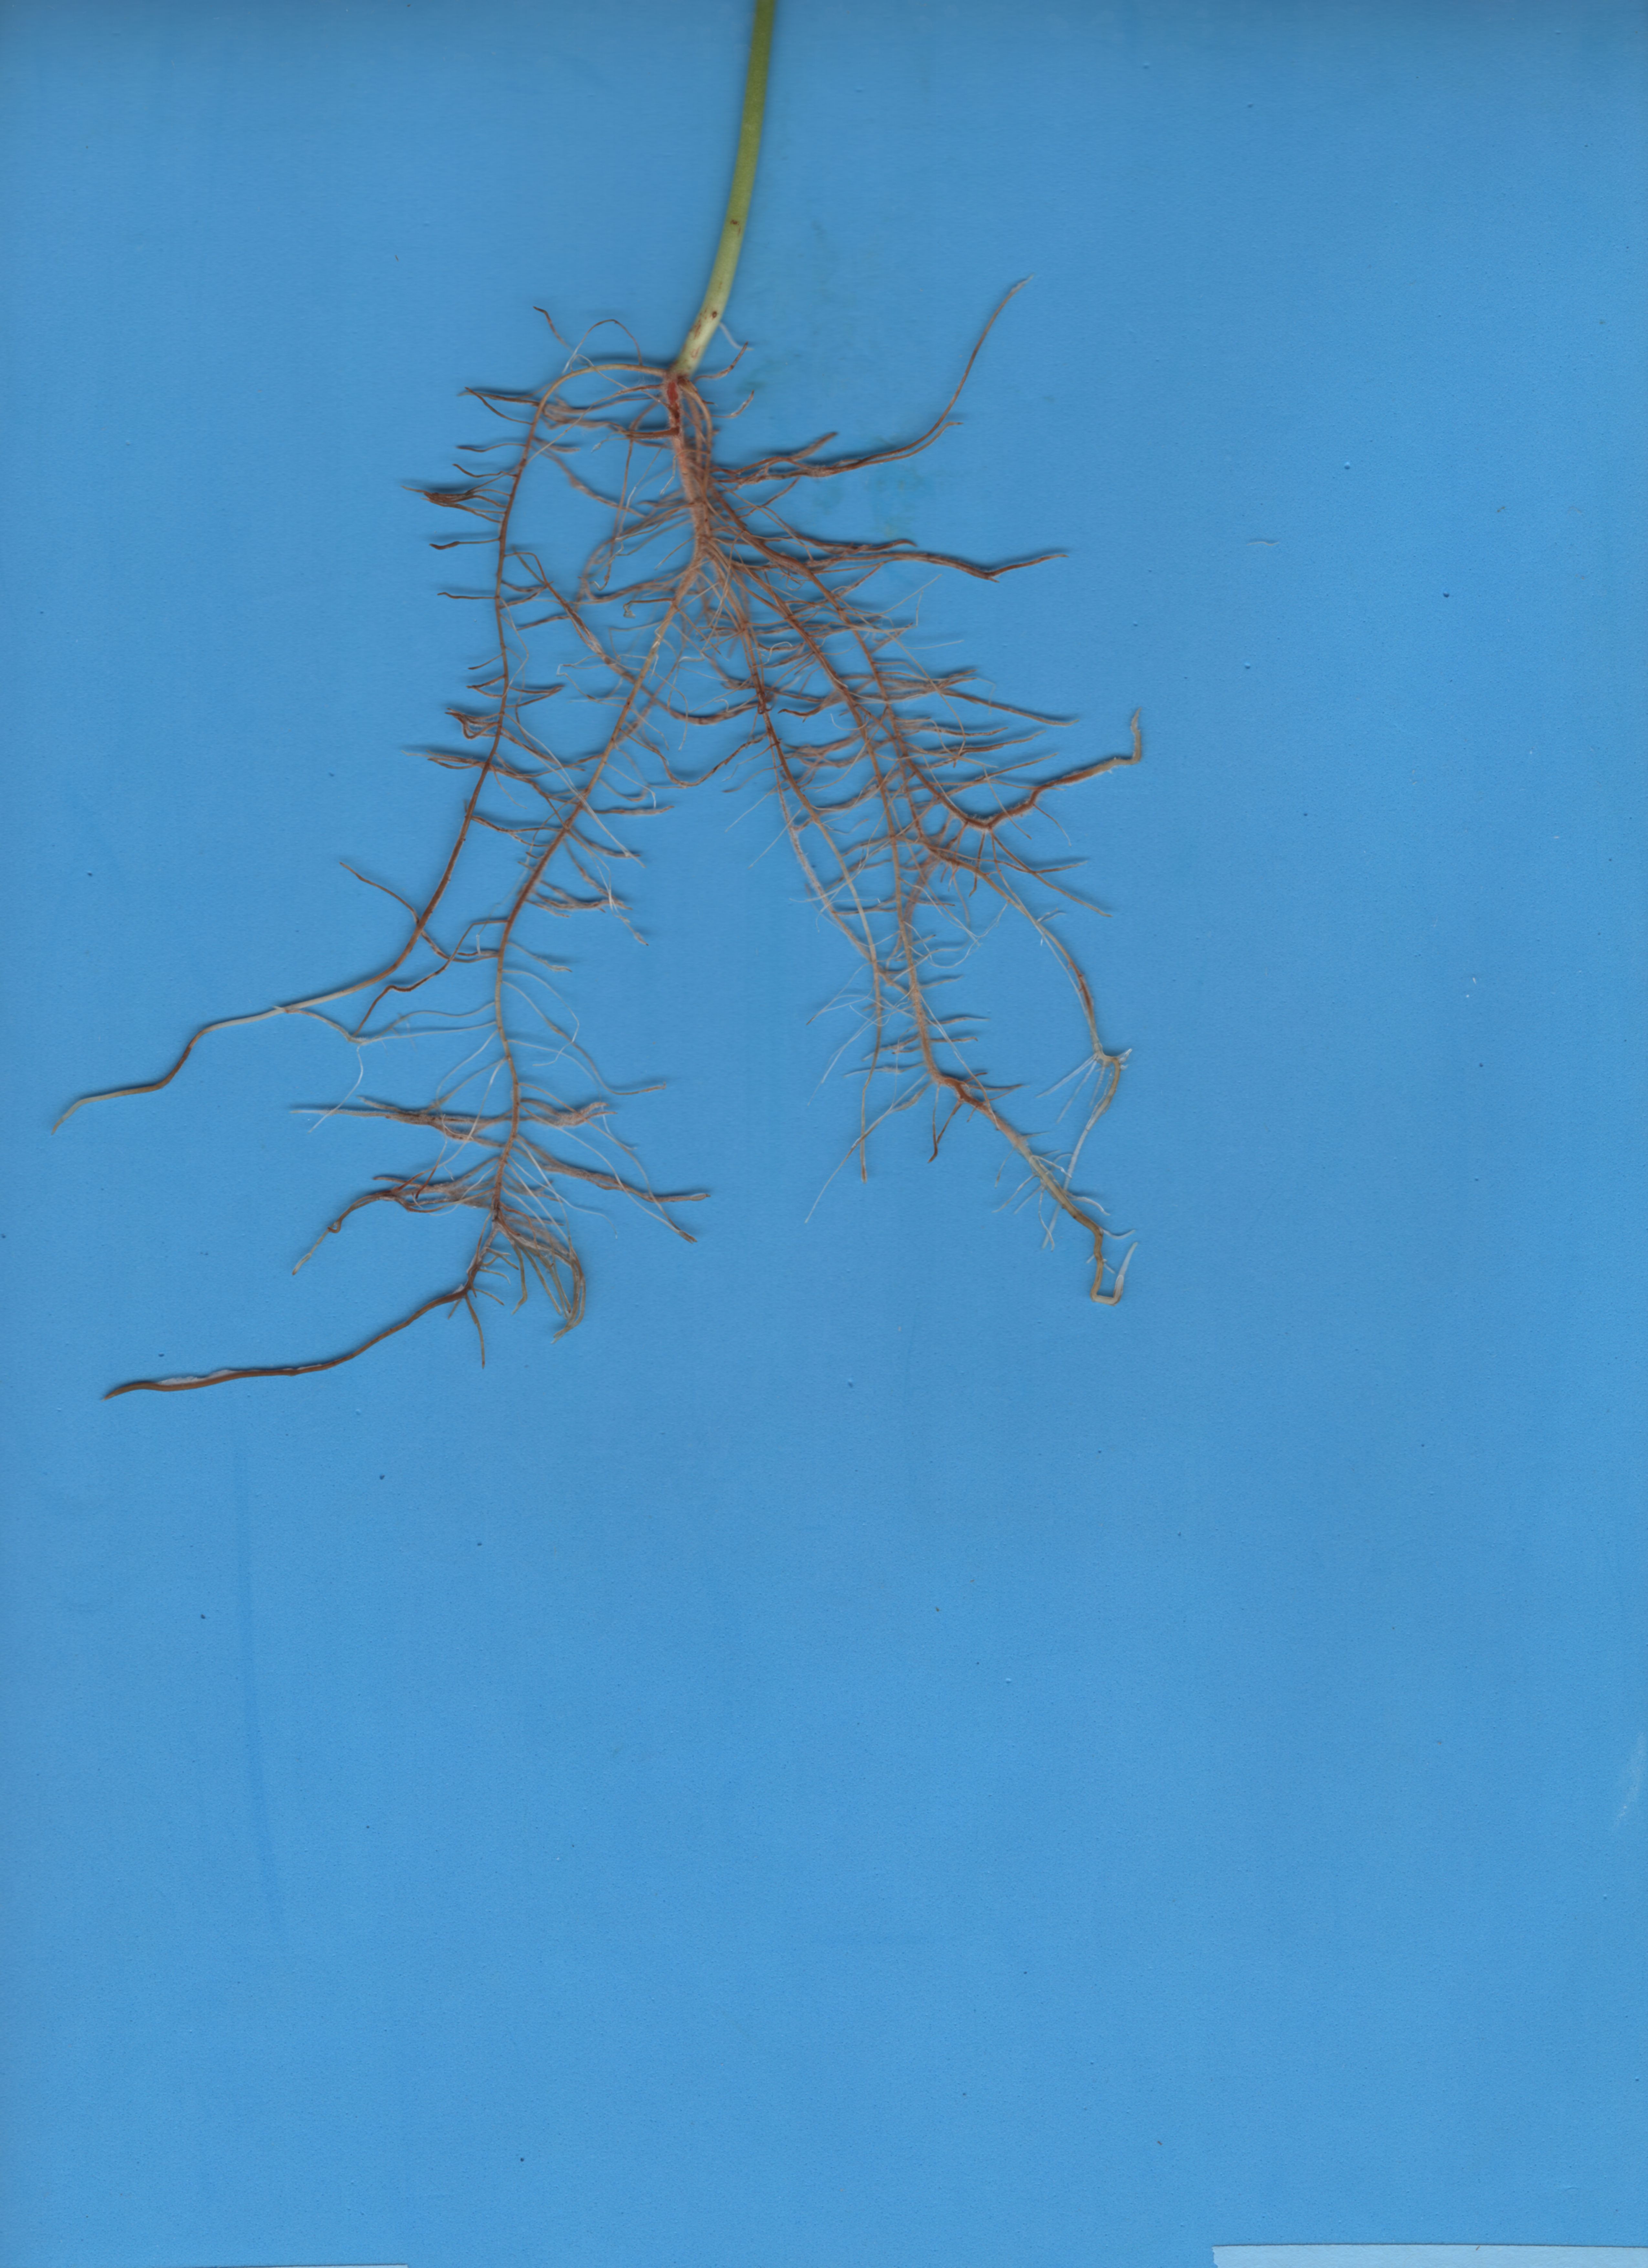CROWNGOOD: (620, 5, 803, 387)
ROOTDISEASE: (53, 322, 1232, 1419)
